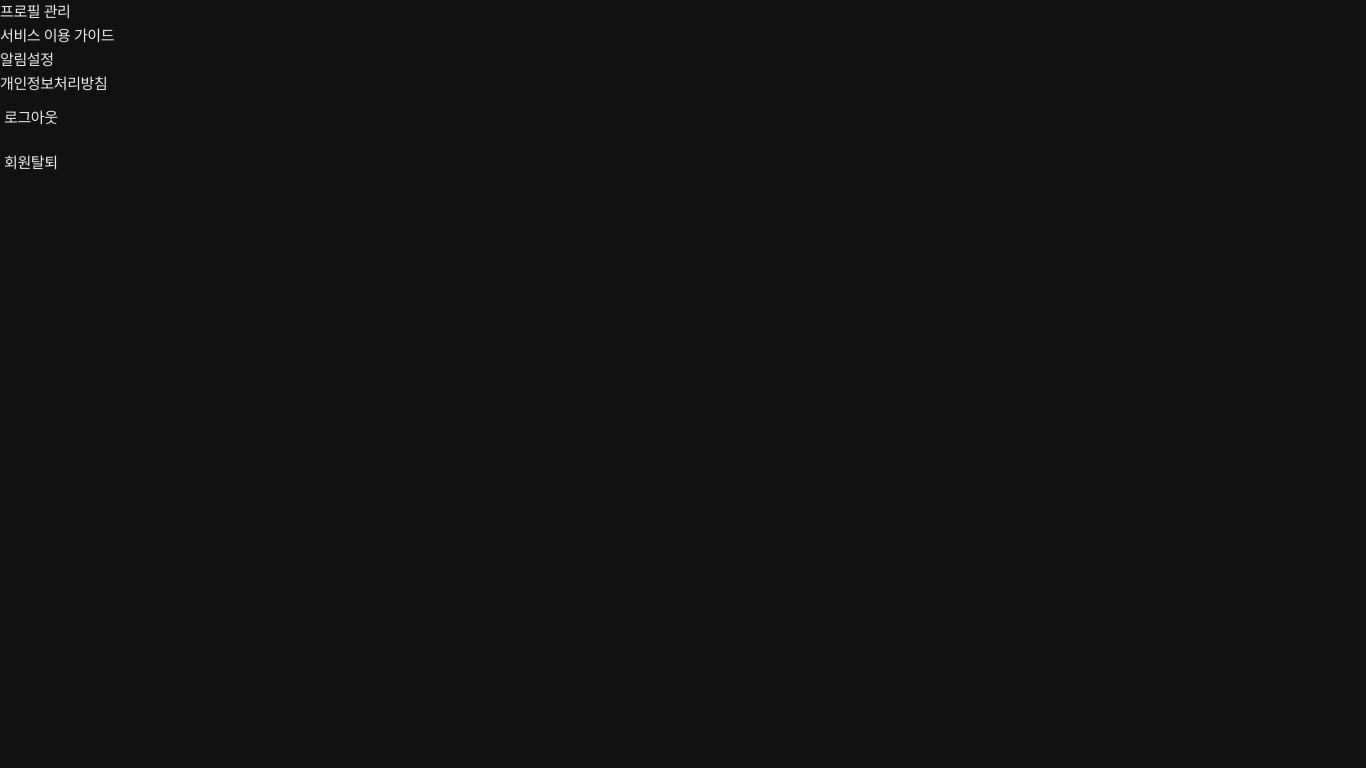
Scenario: MenuSection › 회원탈퇴 모달에 탈퇴 경고 문구가 표시된다
Click the button "회원탈퇴": [31, 163] box 0,141 -> 1365,186
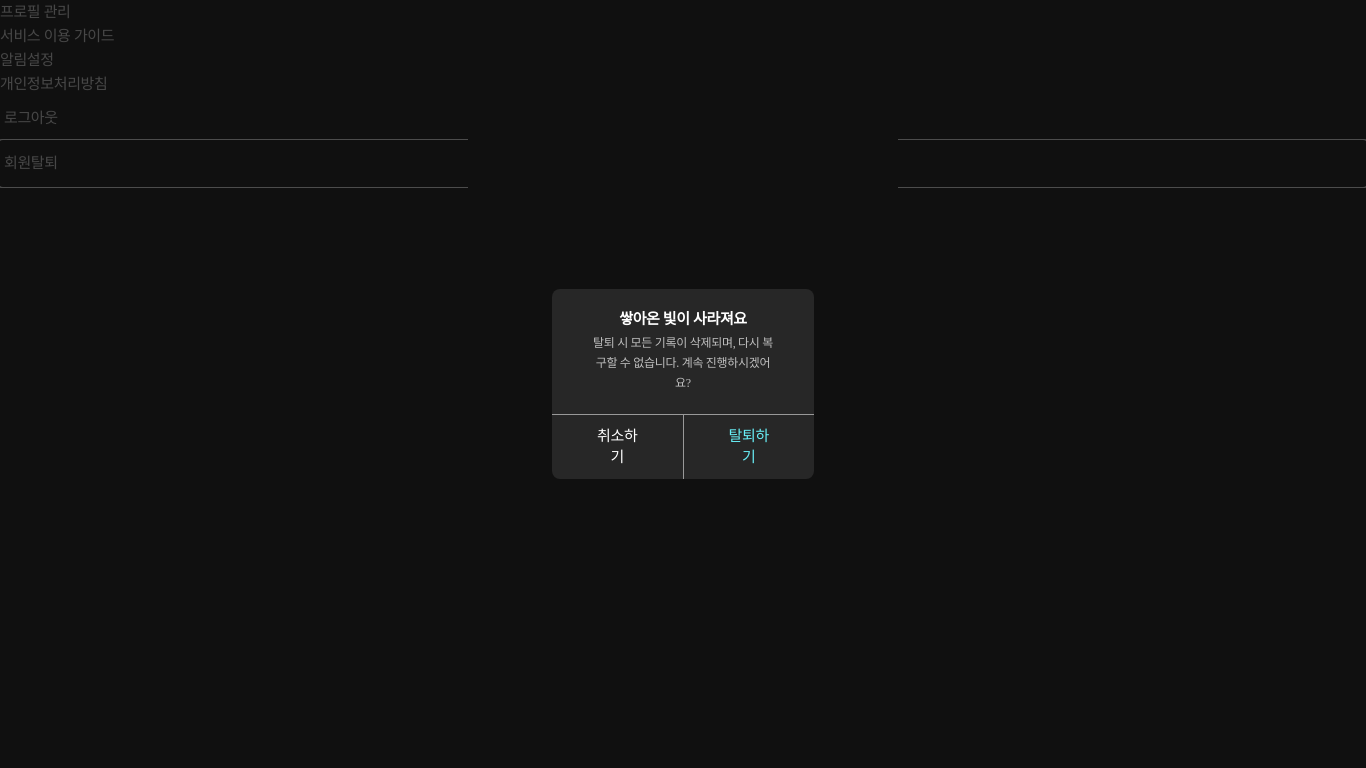
expect the text "탈퇴 시 모든 기록이 삭제되며, 다시 복구할 수 없습니다. 계속 진행하시겠어요?" is shown: met, box 588,334 -> 778,394
